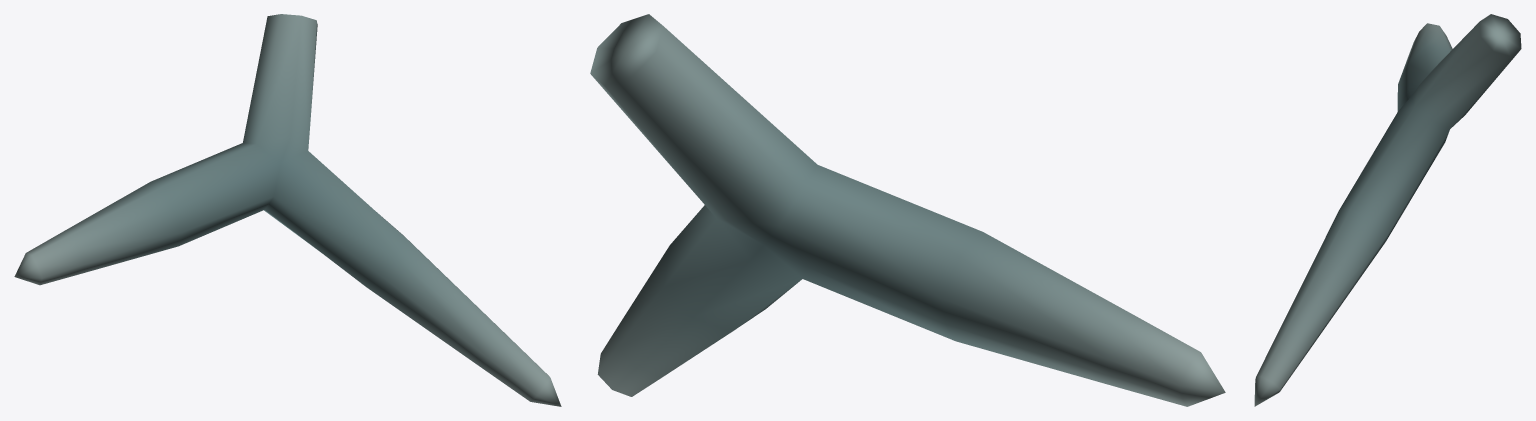
File: microscopic-plankton-sponge-spicule_v1.glb
3 renders of one model, left to right at view 1: azimuth 30°, elevation 25°; view 2: azimuth 150°, elevation 25°; view 3: azimuth 270°, elevation 25°, orthographic. The views are drawn at different scales.
Visible parts, largest first — view 1: Sponge Spicule; view 2: Sponge Spicule; view 3: Sponge Spicule.
Part boxes in pixels (box(x1,y1,x2,y2)): Sponge Spicule: box(14, 14, 561, 406); Sponge Spicule: box(590, 14, 1225, 406); Sponge Spicule: box(1254, 14, 1521, 406).
Size of the model in its own units: 0.2 by 0.1428 by 0.1076.
